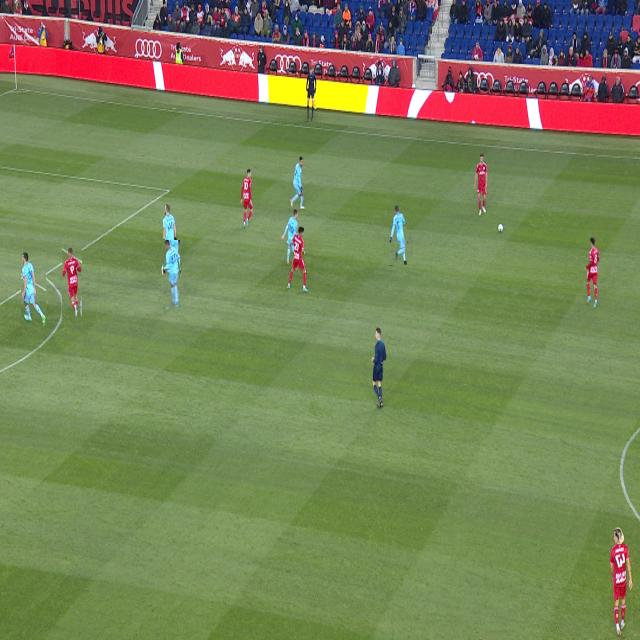football: (498, 223, 503, 232)
player: (610, 527, 633, 637), (21, 253, 46, 327), (287, 227, 309, 293), (62, 249, 82, 317), (164, 240, 180, 307), (390, 206, 407, 265), (585, 237, 599, 308), (281, 209, 298, 265), (474, 153, 487, 216), (290, 156, 305, 209), (240, 169, 253, 229), (163, 205, 177, 254)
referee: (371, 327, 386, 408)
